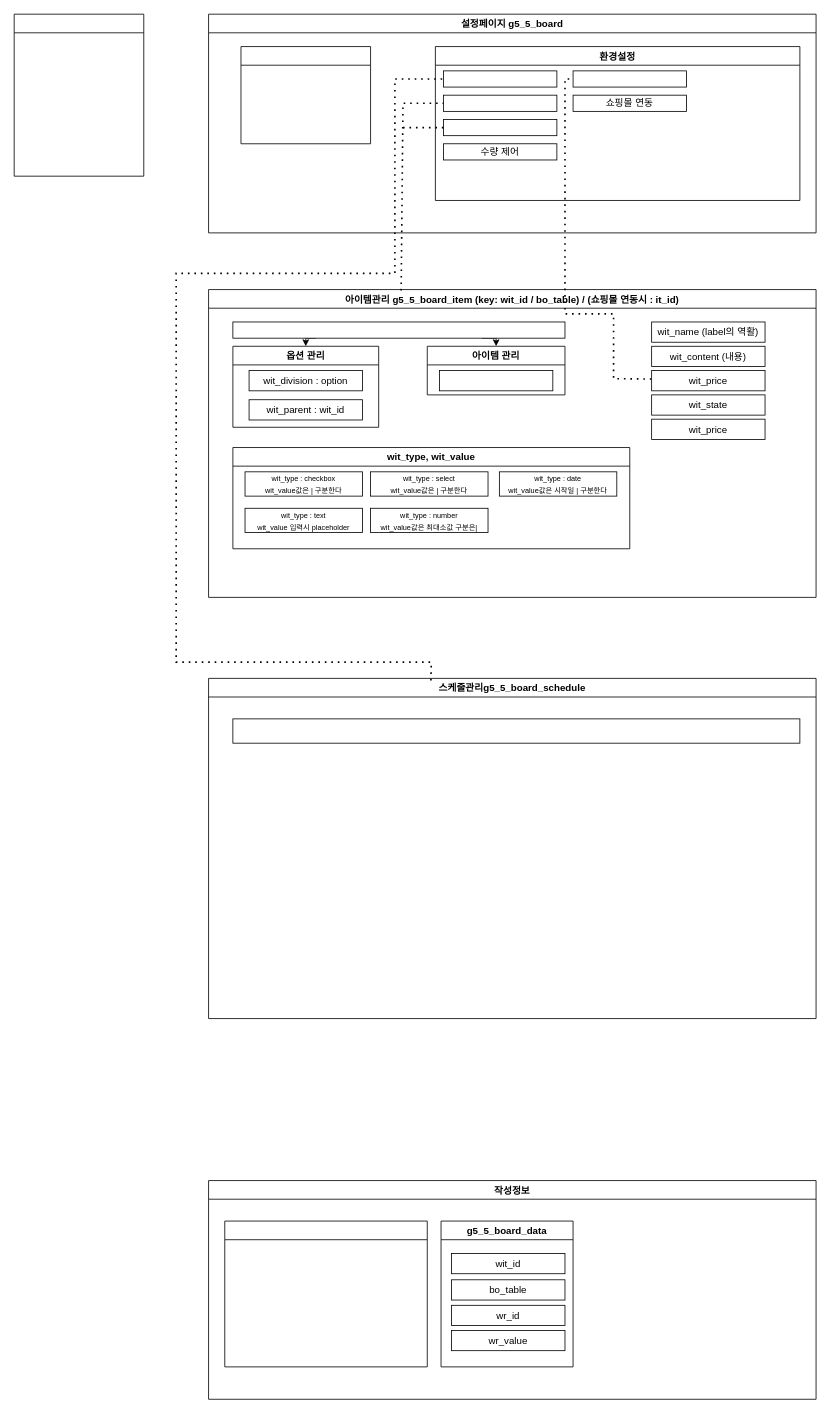
Image size: 830x1413. Some labels were removed from this diagram. The shapes that lost their labels are listed below. From the top down, each one's centre as x and y in pixels, then its label:
the point at 78,94: 메인페이지
the point at 305,95: SMS설정
the point at 500,78: 스케줄 사용
the point at 629,78: 가격사용
the point at 500,102: 아이템 사용
the point at 500,127: 옵션 사용
the point at 398,329: 옵션 타입 : wit_division
the point at 496,380: wit_division : item
the point at 516,730: key : wsh_id ,
the point at 325,1293: g5_wirte_table
